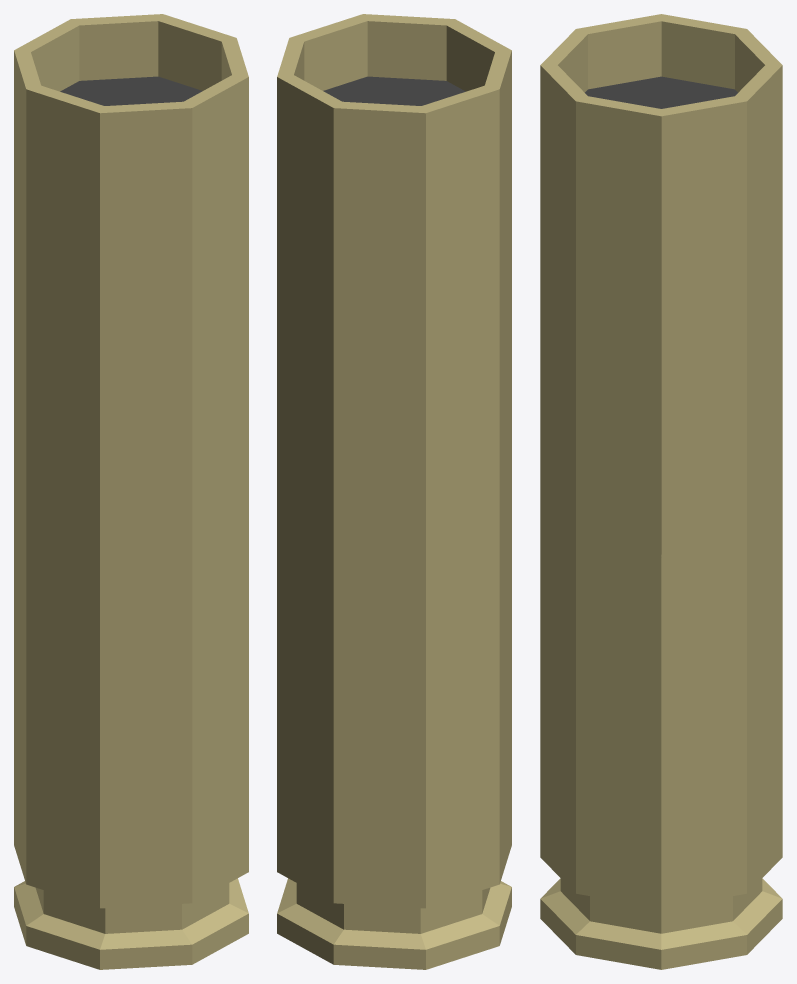
File: CRTE-357.fbx
The picture shows the model from 3 angles, left to right: view 1: azimuth 30°, elevation 25°; view 2: azimuth 150°, elevation 25°; view 3: azimuth 270°, elevation 25°; orthographic projection.
Parts seen in each view (by area): view 1: Cylinder.027; view 2: Cylinder.027; view 3: Cylinder.027.
Part boxes in pixels (x1=…): Cylinder.027: x1=14, y1=14, x2=248, y2=969; Cylinder.027: x1=277, y1=14, x2=511, y2=969; Cylinder.027: x1=540, y1=14, x2=782, y2=969.
Bounding box in the file's own units: 23.17 × 90.09 × 23.17.
